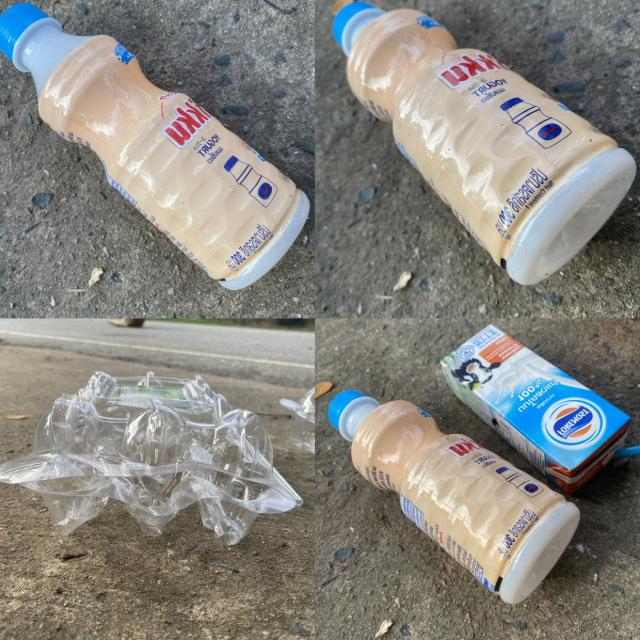plastik: (0, 2, 310, 290), (333, 1, 636, 285), (328, 389, 578, 604), (0, 373, 303, 545), (441, 325, 630, 492)
